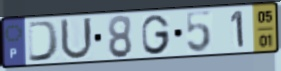1: (228, 9, 246, 51)
5: (185, 9, 214, 55)
8: (106, 13, 135, 60)
D: (26, 19, 62, 63)
G: (140, 13, 172, 56)
U: (58, 16, 95, 62)
